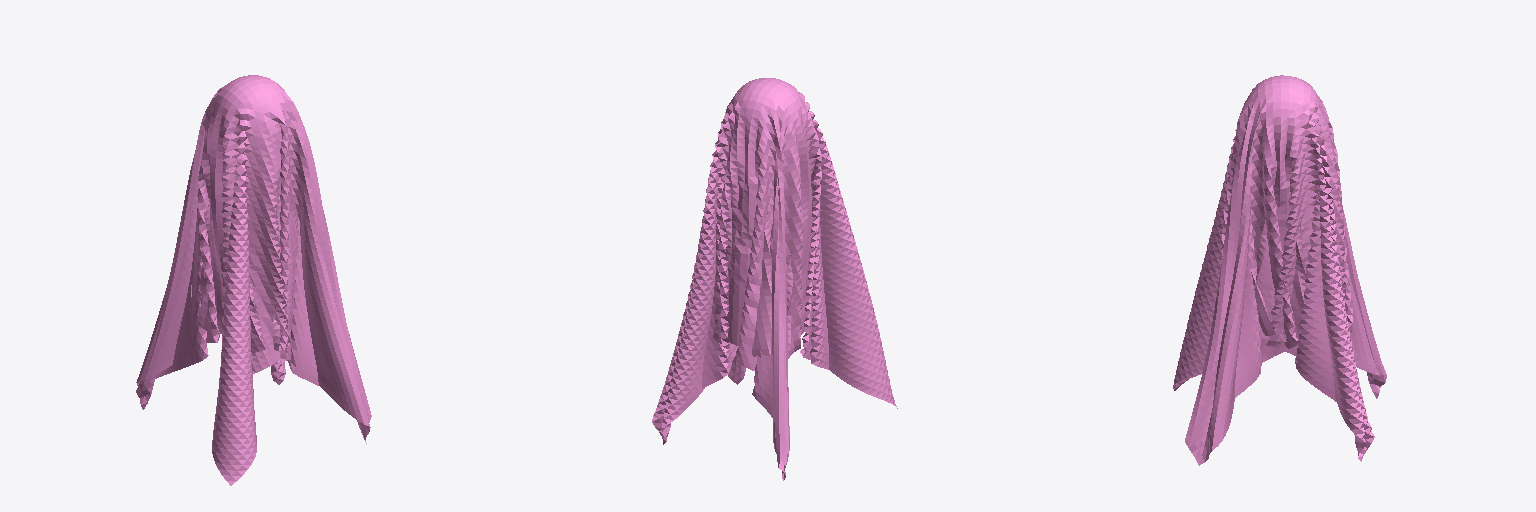
The model's file is ghostcloth.obj.
3 views of the same model, side by side, from view 1: azimuth 30°, elevation 25°; view 2: azimuth 150°, elevation 25°; view 3: azimuth 270°, elevation 25° (orthographic).
Visible parts, largest first — view 1: Plane_Plane.001; view 2: Plane_Plane.001; view 3: Plane_Plane.001.
Part boxes in pixels (x1,y1,x2,y2): Plane_Plane.001: (136,75,371,485); Plane_Plane.001: (652,78,897,480); Plane_Plane.001: (1173,75,1386,465).
Bounding box in the file's own units: 3.02 × 6.2 × 3.43.